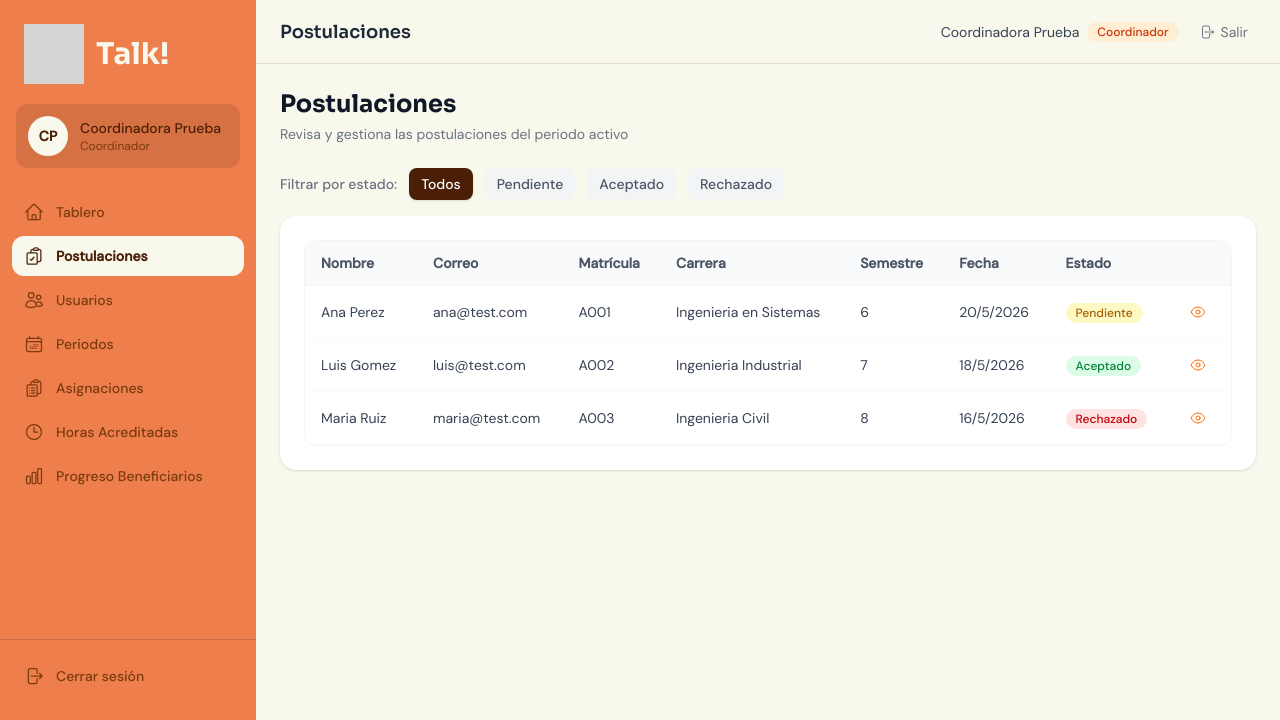
Test: Postulaciones › opens detail modal from row action
The image size is (1280, 720).
Click the button without text in the row of "Ana Perez": (1198, 312) x1=1184 y1=298 x2=1212 y2=326
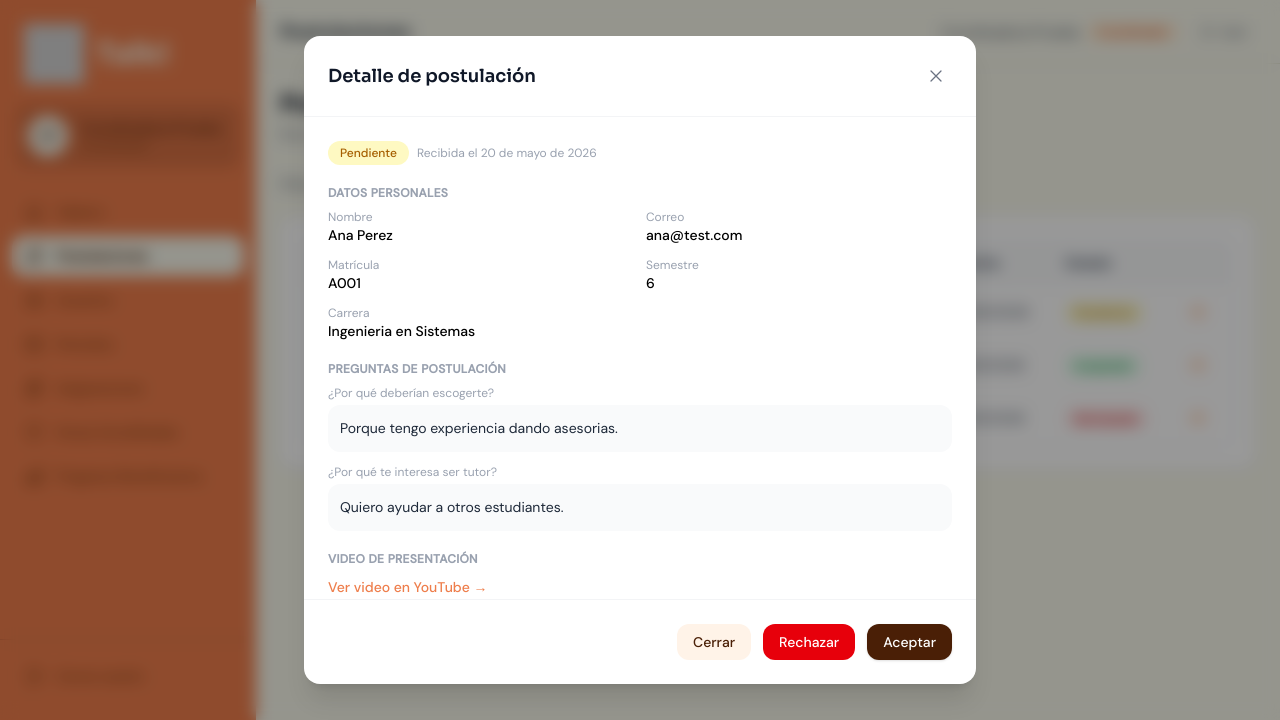
Now the heading "Detalle de postulación" is shown, box x1=328 y1=62 x2=536 y2=90
Now the text "Datos personales" is shown, box x1=328 y1=185 x2=448 y2=201
Now the text "Preguntas de postulación" is shown, box x1=328 y1=361 x2=506 y2=377
